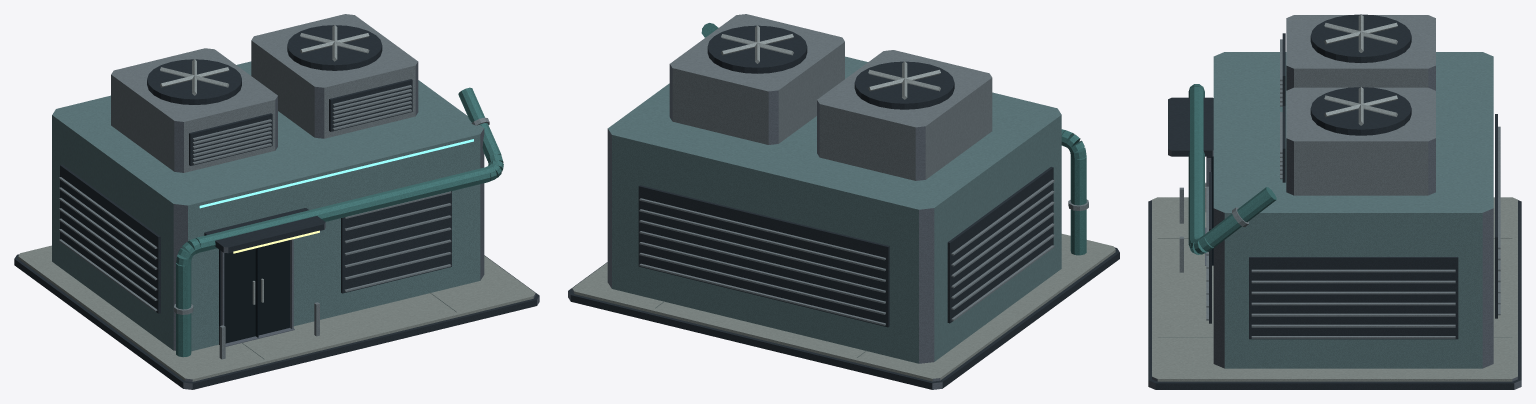
Rendered from 04-lab-annex-03.glb.
3 renders of one model, left to right at view 1: azimuth 30°, elevation 25°; view 2: azimuth 150°, elevation 25°; view 3: azimuth 270°, elevation 25°, orthographic. The views are drawn at different scales.
Parts seen in each view (by area): view 1: lab_architecture; view 2: lab_architecture; view 3: lab_architecture.
Part boxes in pixels (bbox=[...]): lab_architecture: bbox=[14, 14, 539, 389]; lab_architecture: bbox=[568, 14, 1119, 389]; lab_architecture: bbox=[1148, 14, 1521, 389].
Bounding box in the file's own units: 11.7 × 6.79 × 10.
Materials: 2 (2 with a texture image).
